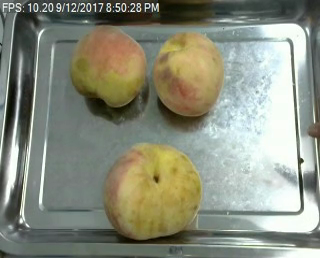Peach: (102, 142, 202, 240), (69, 24, 145, 107), (153, 31, 224, 115)
